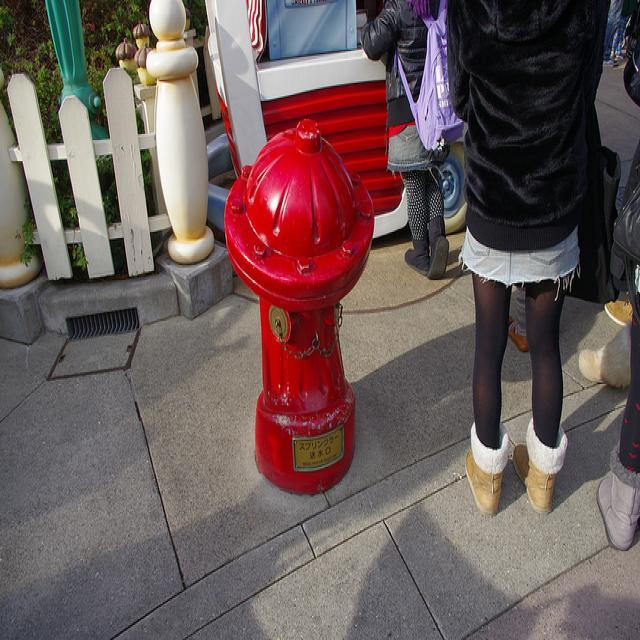fire_hydrant: (223, 114, 376, 496)
